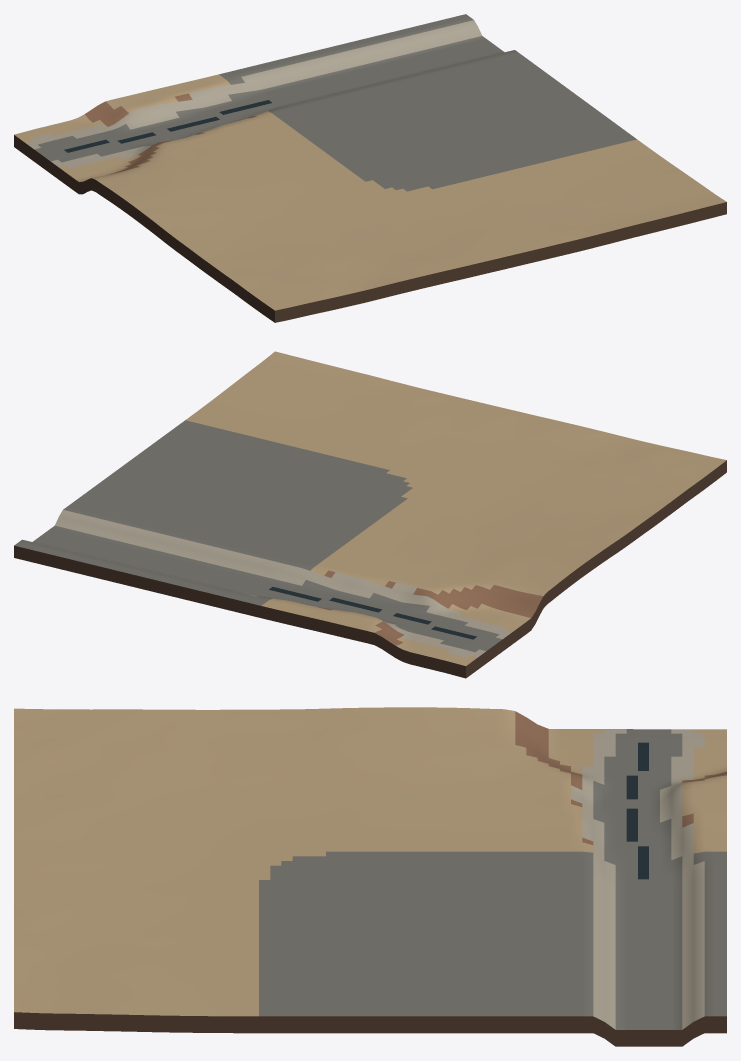
The model's file is Terrain_04_04.fbx.
The picture shows the model from 3 angles, top to bottom: view 1: azimuth 30°, elevation 25°; view 2: azimuth 150°, elevation 25°; view 3: azimuth 270°, elevation 25°; orthographic projection. The views are drawn at different scales.
Visible parts, largest first — view 1: Terrain_04_04_LOD0; view 2: Terrain_04_04_LOD0; view 3: Terrain_04_04_LOD0.
Boxes of the visible parts, <box> form: Terrain_04_04_LOD0: <box>14,14,726,322</box>; Terrain_04_04_LOD0: <box>14,351,726,678</box>; Terrain_04_04_LOD0: <box>14,707,726,1046</box>.
Size of what is drawn, in the model's own units: 384 by 23.05 by 384.
